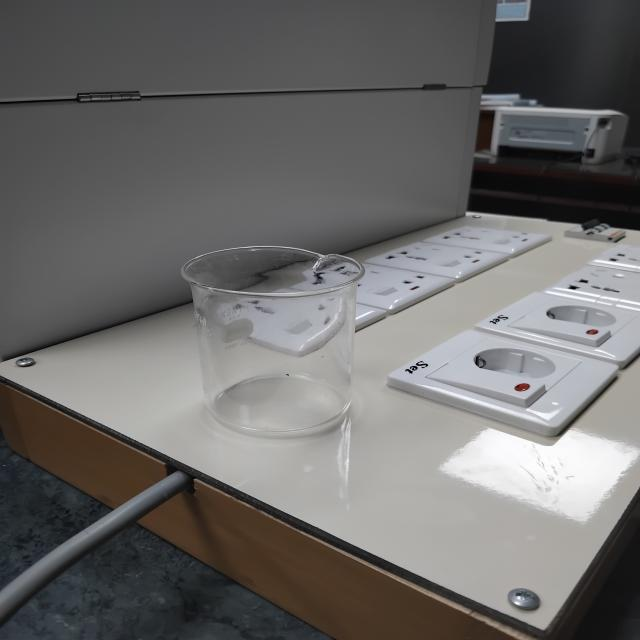Beaker: (123, 219, 427, 470)
